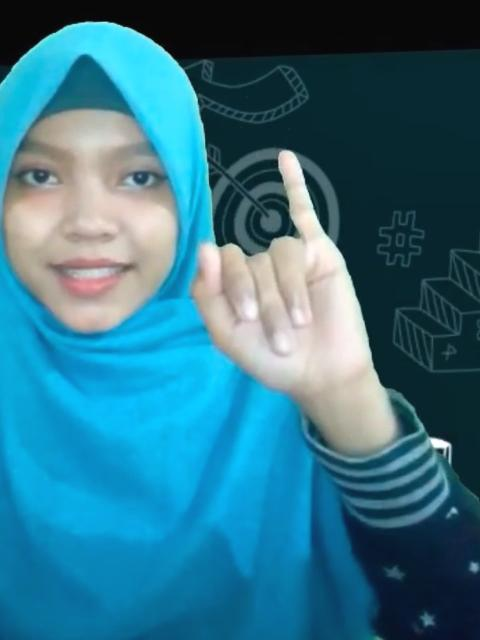I: (187, 147, 373, 399)
